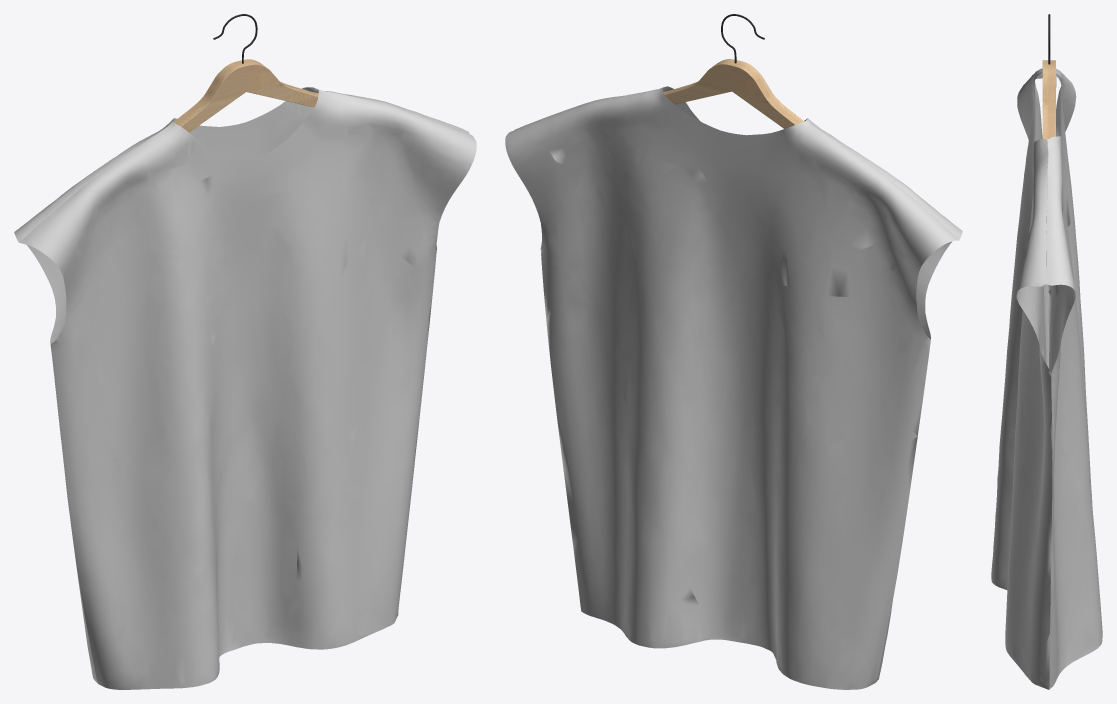
File: shirt 2.FBX
3 views of the same model, side by side, from view 1: azimuth 30°, elevation 25°; view 2: azimuth 150°, elevation 25°; view 3: azimuth 270°, elevation 25° (orthographic). The views are drawn at different scales.
Parts seen in each view (by area): view 1: Shirt 2, Hanger; view 2: Shirt 2, Hanger; view 3: Shirt 2, Hanger.
Boxes of the visible parts, x1,y1,x2,y2 form: Shirt 2: (14, 87, 476, 689); Hanger: (173, 14, 318, 132); Shirt 2: (505, 86, 962, 689); Hanger: (663, 14, 803, 128); Shirt 2: (991, 68, 1102, 689); Hanger: (1042, 14, 1056, 139).
Bounding box in the file's own units: 549 × 125 × 742.
